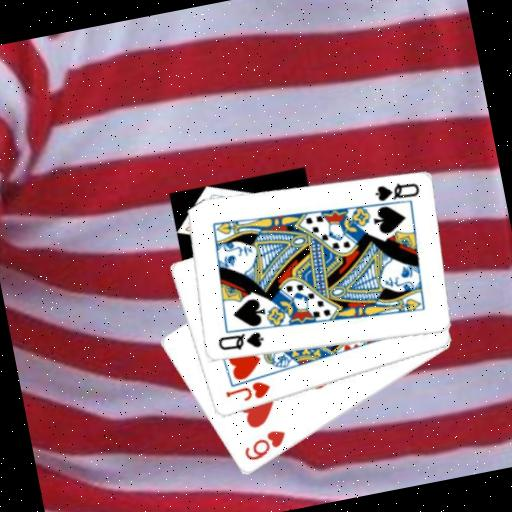6H: (238, 426, 290, 465)
JH: (221, 377, 273, 407)
QS: (214, 327, 267, 358), (370, 176, 422, 206)
